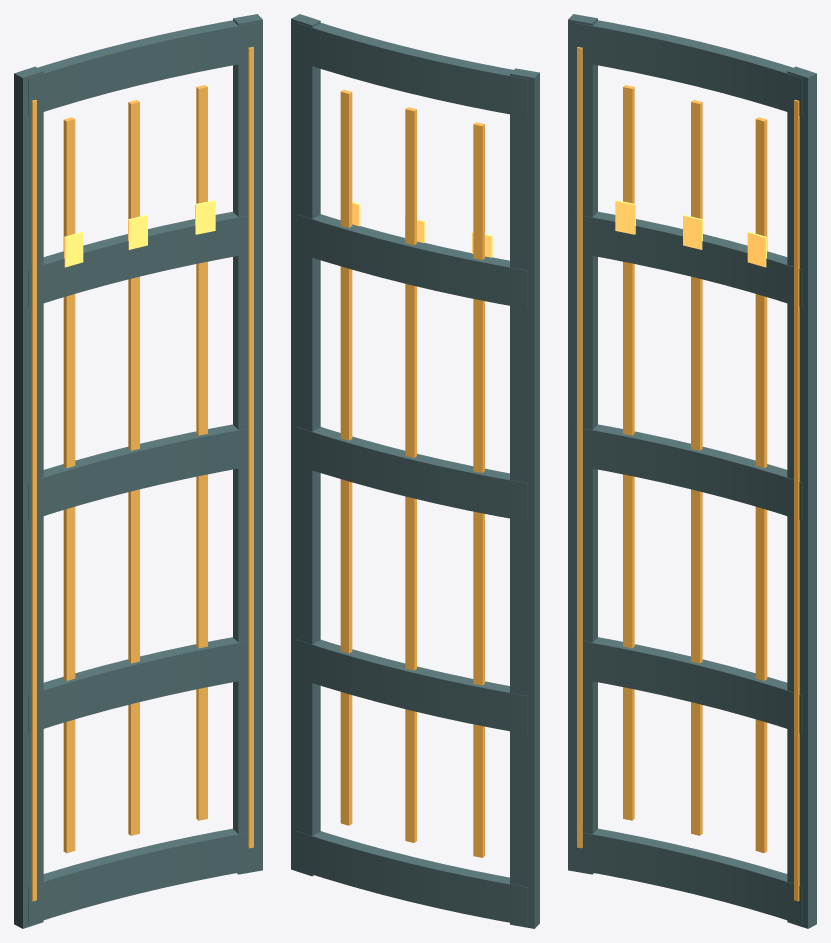
File: enclosure-wave.gltf
The picture shows the model from 3 angles, left to right: view 1: azimuth 30°, elevation 25°; view 2: azimuth 150°, elevation 25°; view 3: azimuth 330°, elevation 25°; orthographic projection.
Visible parts, largest first — view 1: wall-module-0; view 2: wall-module-0; view 3: wall-module-0.
Boxes of the visible parts, x1,y1,x2,y2 form: wall-module-0: (14,14,262,928); wall-module-0: (291,14,539,928); wall-module-0: (568,14,816,928).
Size of the model in its own units: 0.2996 by 1 by 0.0276.
